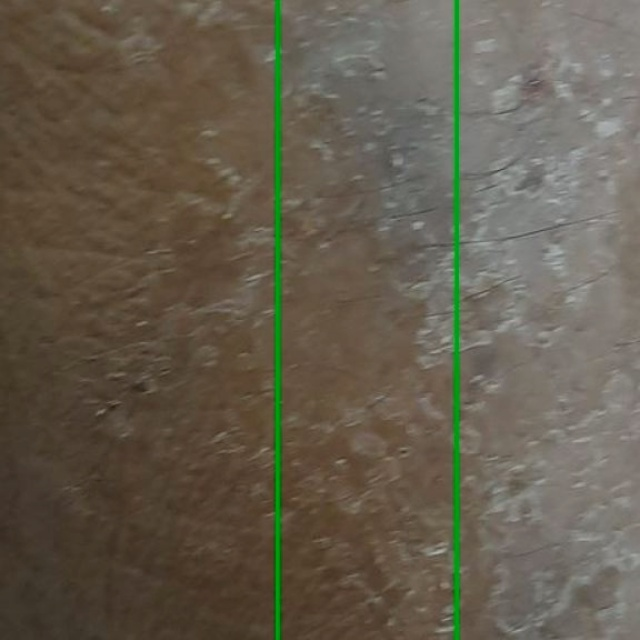Eczema: (0, 0, 456, 639), (277, 0, 639, 639)
